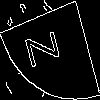Z: (25, 25, 68, 69)
